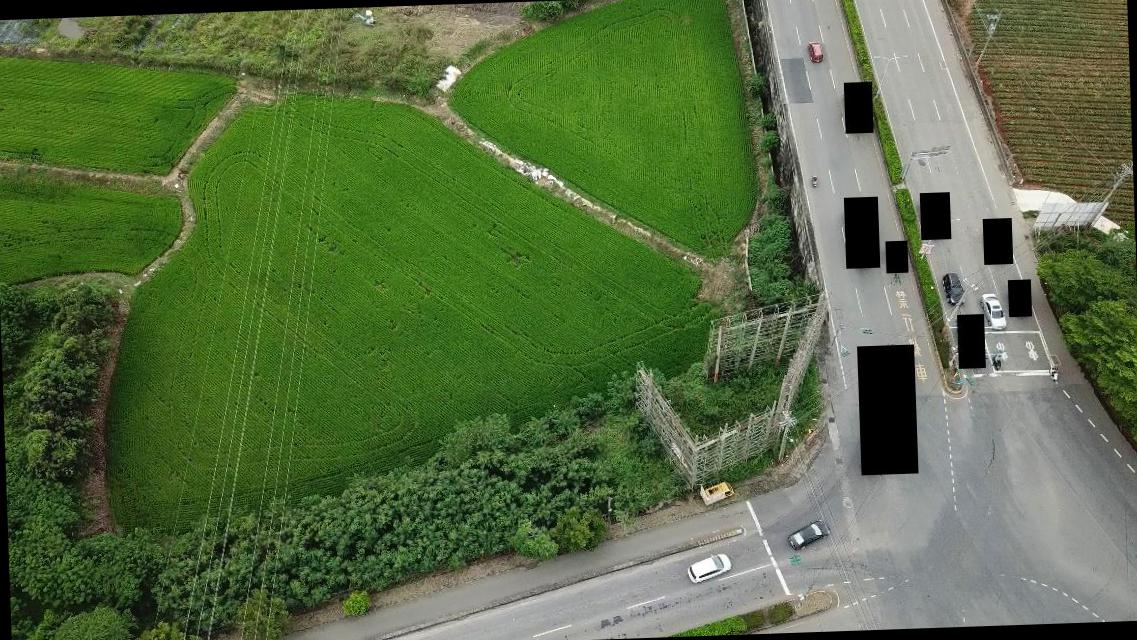vehicle: (686, 553, 732, 584), (785, 518, 829, 550), (979, 290, 1006, 332), (942, 271, 964, 307), (702, 482, 737, 503), (808, 37, 823, 64)
